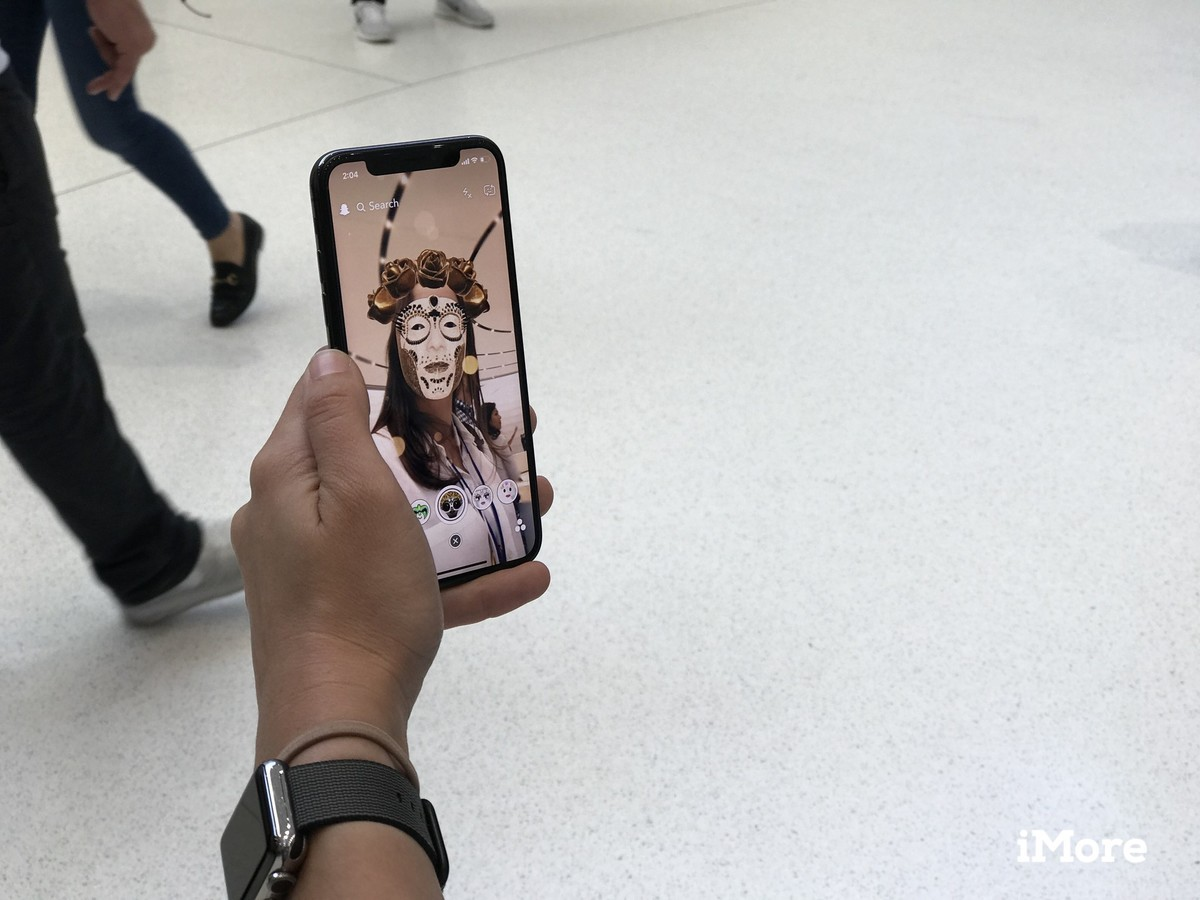smartphone: (309, 133, 542, 593)
